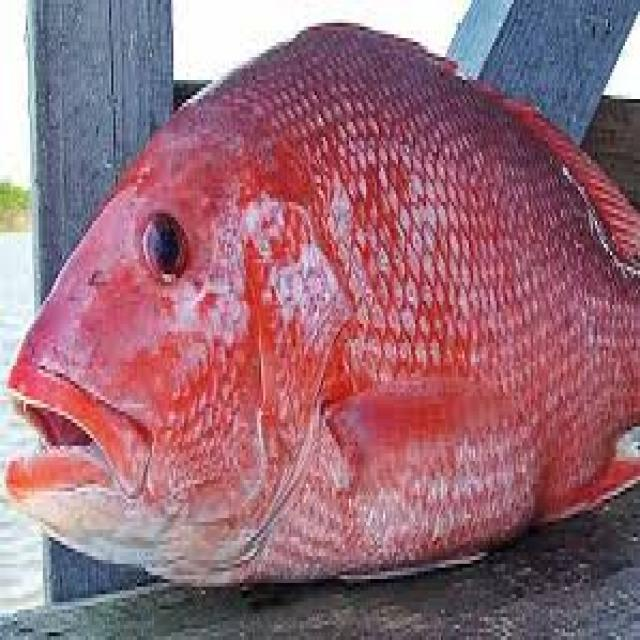northern-red-snapper: (0, 3, 640, 607)
